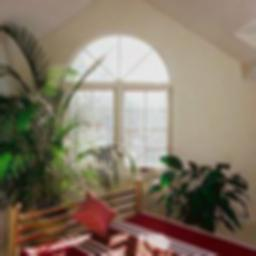Matera: (0, 41, 74, 237), (168, 161, 228, 231)
